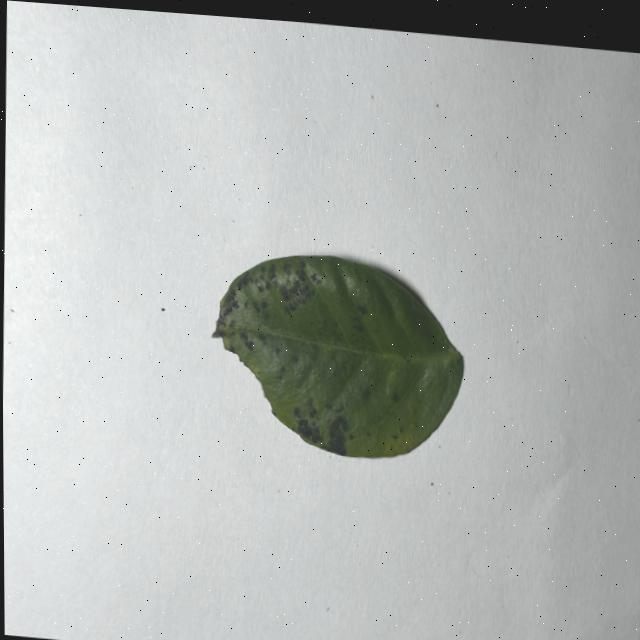sooty_mold: (213, 255, 461, 457)
